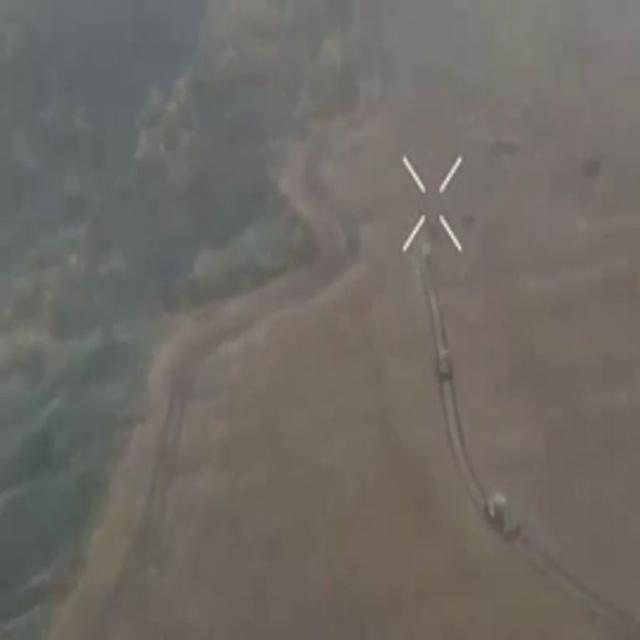vehicle: (474, 484, 531, 556), (418, 338, 468, 398)
